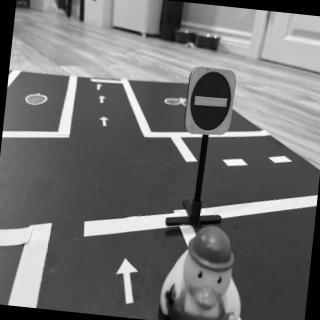duck_specialty: (157, 222, 255, 320)
road_oneway: (113, 255, 143, 310), (98, 113, 112, 131), (98, 93, 108, 107), (95, 83, 104, 93)
sign_noentry: (185, 68, 237, 137)
